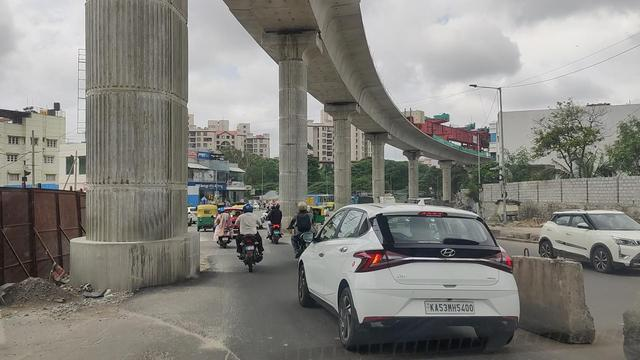LMV: (303, 203, 516, 347), (236, 205, 263, 269), (215, 211, 231, 249)
RoadDamages: (119, 305, 241, 360)
